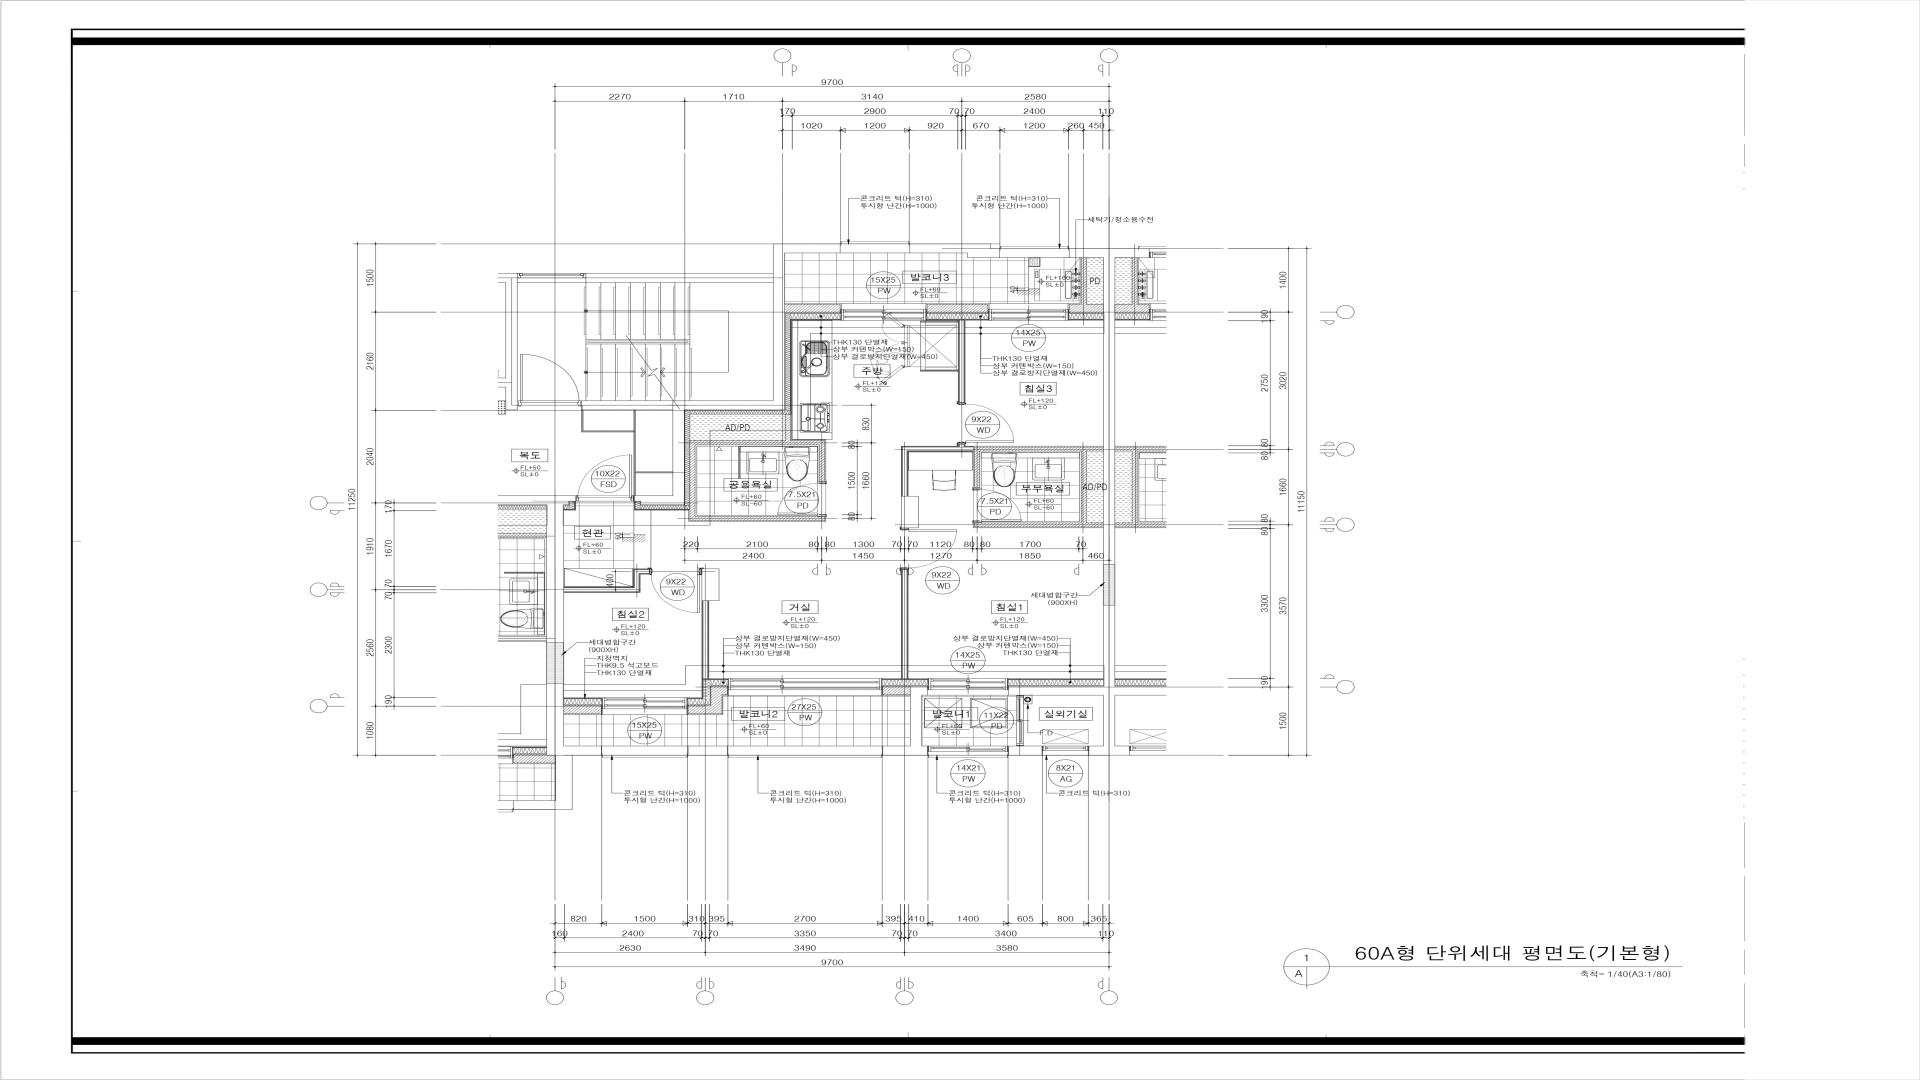door: (517, 353, 582, 410), (576, 454, 634, 501), (901, 527, 957, 570), (649, 568, 702, 613), (960, 402, 1015, 444), (777, 481, 824, 517), (975, 488, 1022, 522), (1017, 695, 1023, 746)
wall: (1009, 248, 1166, 695), (582, 244, 840, 410), (497, 496, 576, 683), (690, 440, 824, 521), (975, 447, 1104, 522), (634, 410, 684, 505), (1114, 447, 1167, 527), (497, 756, 572, 810), (546, 683, 601, 756), (902, 447, 975, 496), (882, 686, 927, 756), (497, 273, 518, 410), (785, 414, 824, 481), (1089, 695, 1130, 756), (563, 570, 650, 592), (1116, 257, 1150, 313), (1069, 258, 1104, 313), (585, 273, 773, 282), (728, 746, 882, 756), (910, 244, 1000, 257), (687, 686, 728, 713), (601, 746, 688, 756), (1000, 248, 1069, 258), (975, 522, 1104, 527), (840, 244, 910, 253), (901, 496, 919, 527), (902, 570, 907, 679), (702, 568, 719, 601), (927, 305, 988, 314), (702, 601, 708, 679), (785, 305, 840, 313), (513, 754, 555, 764), (688, 746, 728, 756), (960, 320, 964, 402), (1009, 746, 1042, 756), (564, 705, 601, 713), (881, 686, 911, 695), (497, 533, 546, 538), (497, 637, 546, 641), (960, 444, 964, 447)
window: (728, 678, 882, 690), (840, 309, 927, 320), (601, 698, 687, 709), (988, 309, 1069, 320), (927, 746, 1009, 758), (927, 678, 1009, 690), (728, 756, 882, 758), (518, 273, 585, 278), (601, 756, 688, 758), (1042, 746, 1089, 750), (1000, 247, 1069, 249), (840, 241, 910, 244), (1130, 746, 1167, 750)
